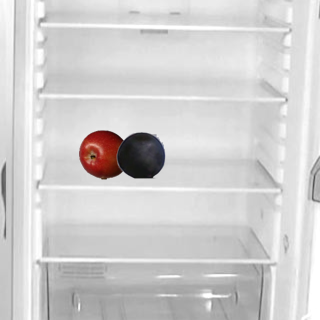Apple Braeburn: (78, 129, 128, 179)
Grape Blue: (115, 129, 165, 179)
